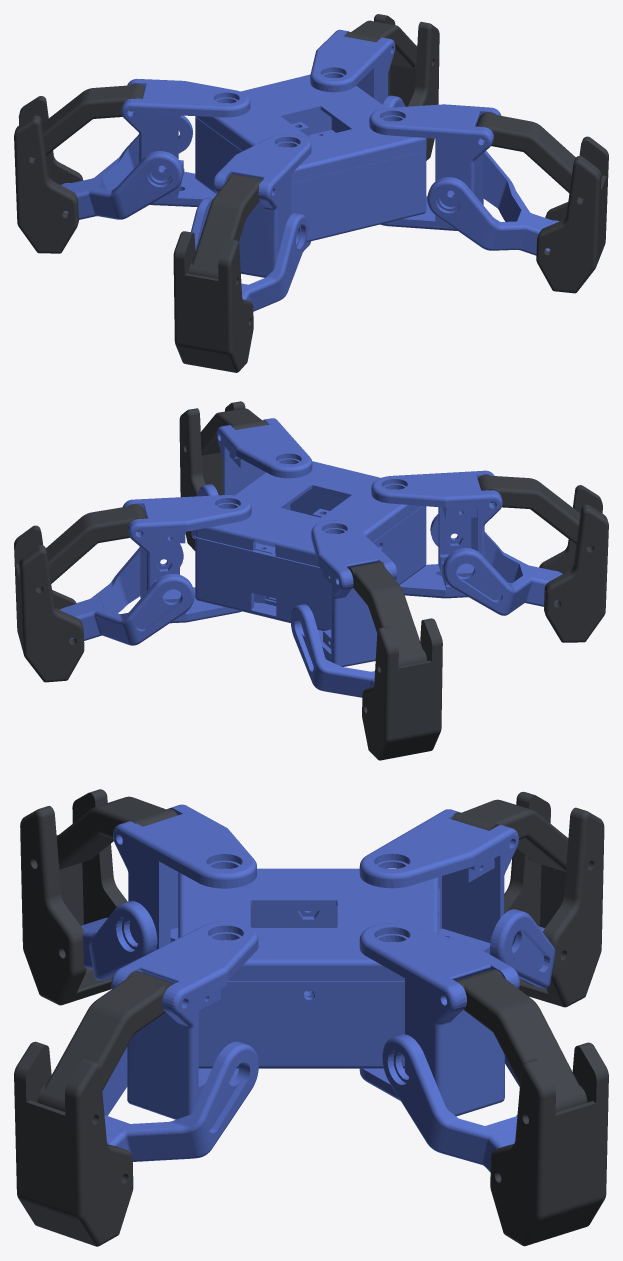
Rendered from quadruped.glb.
3 views of the same model, one above another, from view 1: azimuth 30°, elevation 25°; view 2: azimuth 150°, elevation 25°; view 3: azimuth 270°, elevation 25° (orthographic). The views are drawn at different scales.
Visible parts, largest first — view 1: body_box, body_cover, foot_FL, foot_FR, bracket_FR, bracket_BL, foot_BL, bracket_FL, leg_FR, leg_BL, bracket_BR, link_FL (+5 smaller); view 2: body_box, body_cover, foot_BL, bracket_FL, foot_BR, foot_FL, bracket_BR, bracket_BL, leg_BR, leg_FL, bracket_FR, link_BL (+5 smaller); view 3: body_cover, body_box, foot_FR, foot_BR, bracket_BR, bracket_FR, foot_FL, foot_BL, bracket_BL, bracket_FL, leg_FR, link_BR (+6 smaller).
Boxes of the visible parts, x1,y1,x2,y2 form: body_box: [195, 110, 426, 242]; body_cover: [195, 74, 426, 183]; foot_FL: [173, 231, 253, 372]; foot_FR: [536, 136, 608, 293]; bracket_FR: [369, 104, 501, 230]; bracket_BL: [121, 78, 250, 206]; foot_BL: [14, 96, 83, 253]; bracket_FL: [213, 133, 311, 277]; leg_FR: [427, 151, 559, 255]; leg_BL: [61, 115, 192, 219]; bracket_BR: [310, 29, 395, 104]; link_FL: [188, 173, 263, 278]; body_box: [195, 488, 426, 630]; body_cover: [195, 461, 421, 566]; foot_BL: [362, 618, 442, 760]; bracket_FL: [371, 470, 502, 598]; foot_BR: [14, 525, 84, 682]; foot_FL: [539, 485, 608, 642]; bracket_BR: [123, 495, 251, 623]; bracket_BL: [311, 520, 397, 666]; leg_BR: [59, 544, 194, 645]; leg_FL: [430, 514, 562, 615]; bracket_FR: [216, 418, 312, 547]; link_BL: [348, 561, 427, 666]; body_cover: [178, 868, 438, 997]; body_box: [198, 888, 439, 1068]; foot_FR: [14, 1041, 133, 1246]; foot_BR: [490, 1042, 608, 1246]; bracket_BR: [359, 923, 519, 1116]; bracket_FR: [111, 921, 258, 1119]; foot_FL: [20, 789, 127, 1005]; foot_BL: [504, 791, 604, 1007]; bracket_BL: [359, 809, 518, 954]; bracket_FL: [113, 804, 256, 949]; leg_FR: [102, 1041, 258, 1161]; link_BR: [456, 969, 587, 1112].
Bounding box in the file's own units: 3.82 × 1.32 × 3.29.
